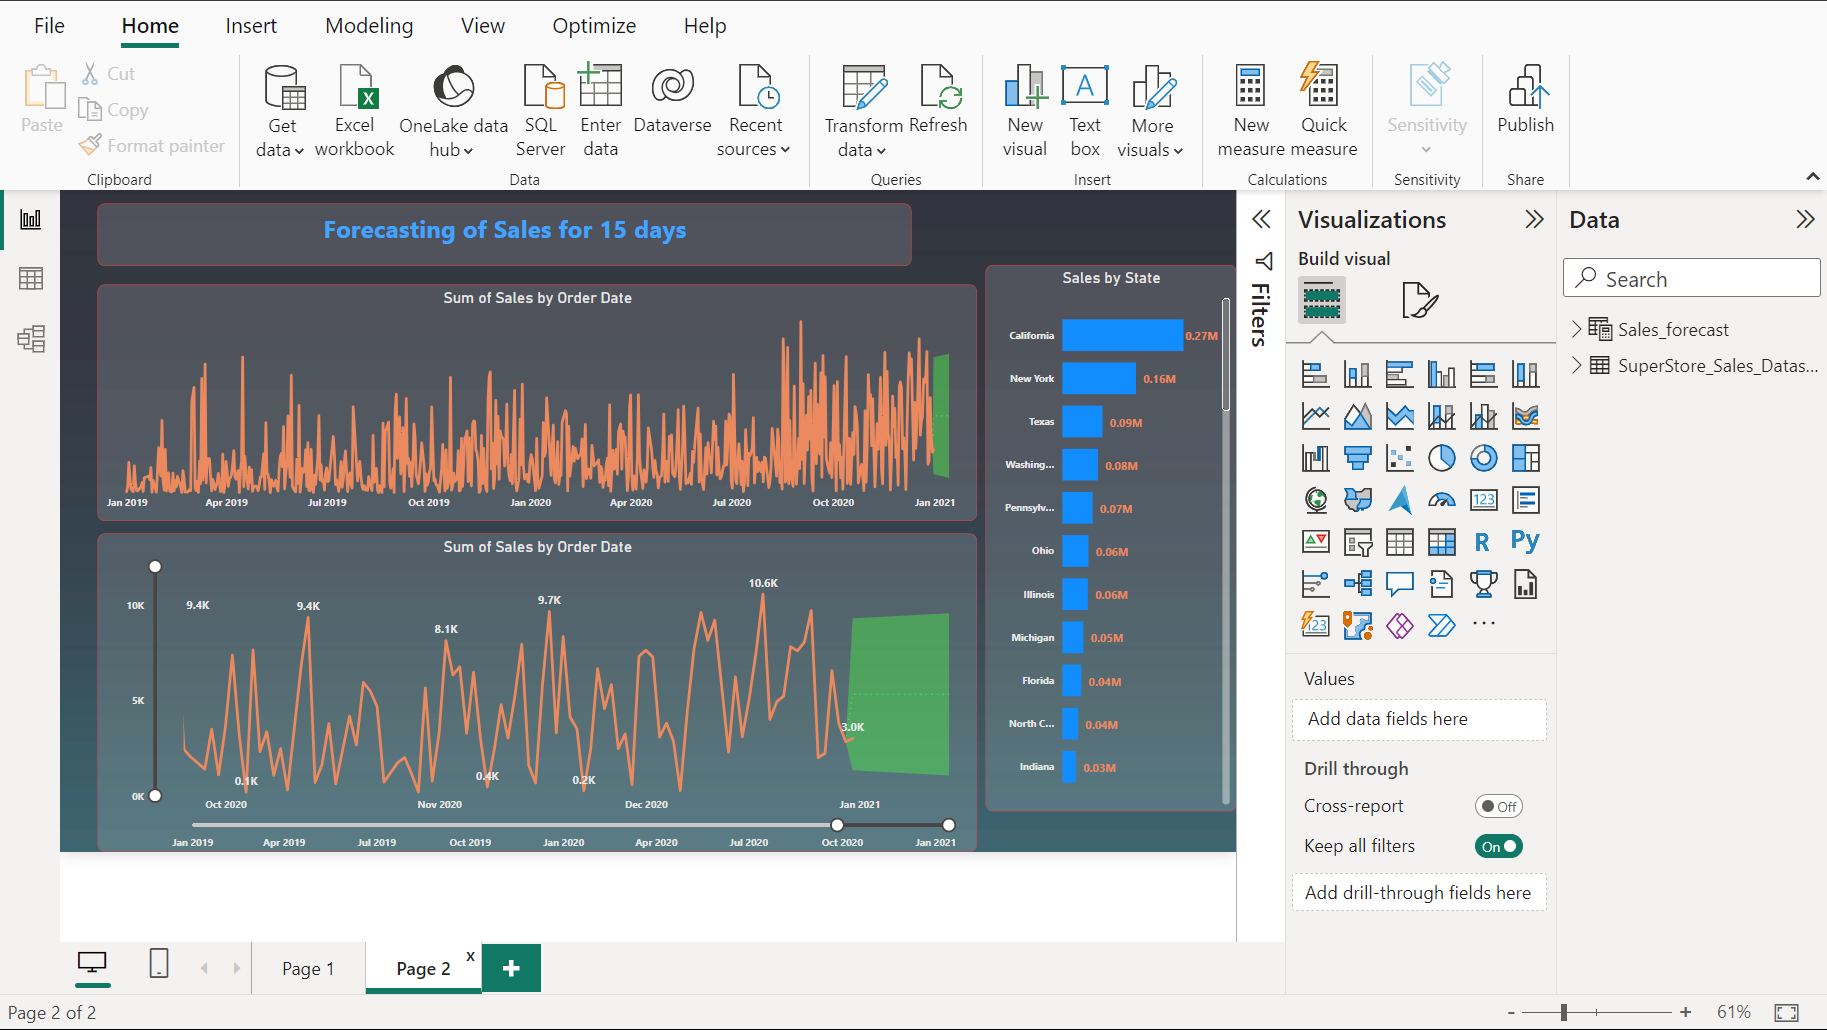

This screenshot's page, from the dashboard's own definition file:
{"tool":"powerbi","page":{"name":"Page 2","canvas":[1280,720],"ordinal":1},"visuals":[{"type":"lineChart","fields":{"Y":["Sum(SuperStore_Sales_Dataset.Sales)"],"Category":["SuperStore_Sales_Dataset.Order Date"]},"box":[41.1,103.6,957.1,257.1],"z":0},{"type":"lineChart","fields":{"Y":["Sum(SuperStore_Sales_Dataset.Sales)"],"Category":["SuperStore_Sales_Dataset.Order Date"]},"box":[41.1,373.2,957.1,346.4],"z":1000},{"type":"clusteredBarChart","title":"Sales by State","fields":{"Y":["Sum(SuperStore_Sales_Dataset.Sales)"],"Category":["SuperStore_Sales_Dataset.State"]},"box":[1007.1,82.1,273.2,594.6],"z":2000},{"type":"textbox","box":[41.1,14.3,885.7,67.9],"z":3000}]}

Visuals, with their boxes on the page's 1280x720 design canvas (x1, y1, x2, y2). These are canvas units, not pixel positions in the 1827x1030 screenshot, which may show the page scaled, cropped or inside an application window:
lineChart - Sum(SuperStore_Sales_Dataset.Sales) x SuperStore_Sales_Dataset.Order Date: <region>41, 104, 998, 361</region>
lineChart - Sum(SuperStore_Sales_Dataset.Sales) x SuperStore_Sales_Dataset.Order Date: <region>41, 373, 998, 720</region>
"Sales by State" clusteredBarChart: <region>1007, 82, 1280, 677</region>
textbox: <region>41, 14, 927, 82</region>
